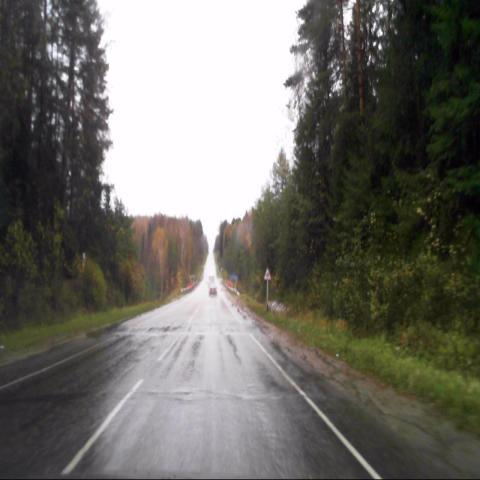1_23: (264, 268, 271, 279)
